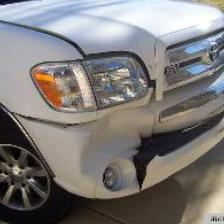bumper_dent: (114, 94, 224, 194)
